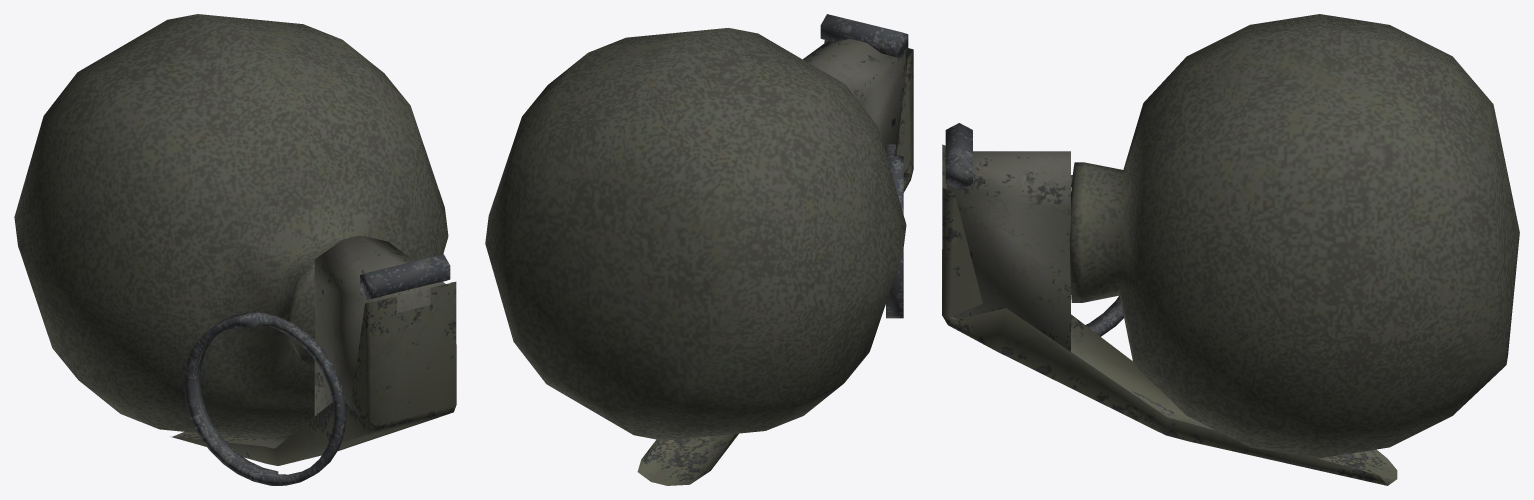
File: weapon_m67_grenade_LOD0.obj
3 renders of one model, left to right at view 1: azimuth 30°, elevation 25°; view 2: azimuth 150°, elevation 25°; view 3: azimuth 270°, elevation 25°, orthographic. The views are drawn at different scales.
Parts seen in each view (by area): view 1: mtl_weapon_m67_grenade; view 2: mtl_weapon_m67_grenade; view 3: mtl_weapon_m67_grenade.
Boxes of the visible parts, box(x1,y1,x2,y2) form: mtl_weapon_m67_grenade: box(14, 14, 456, 485); mtl_weapon_m67_grenade: box(485, 14, 913, 485); mtl_weapon_m67_grenade: box(942, 14, 1519, 485).
Size of the model in its own units: 7.51 by 8.12 by 9.59.
Materials: 1 (1 with a texture image).
